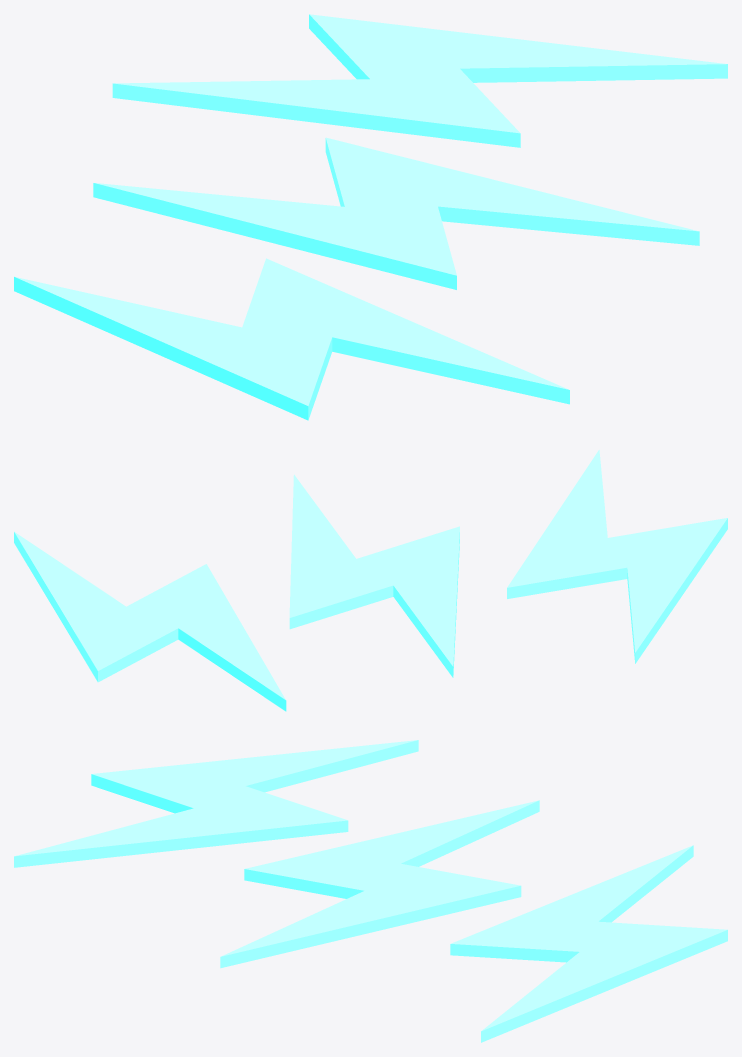
Rendered from mesh_BoostGauge_Star3.fbx.
3 renders of one model, top to bottom at view 1: azimuth 30°, elevation 25°; view 2: azimuth 150°, elevation 25°; view 3: azimuth 270°, elevation 25°, orthographic. The views are drawn at different scales.
Visible parts, largest first — view 1: mesh_FX_BoostPlateformeFeedback3F; view 2: mesh_FX_BoostPlateformeFeedback3F; view 3: mesh_FX_BoostPlateformeFeedback3F.
Part boxes in pixels (x1,y1,x2,y2): mesh_FX_BoostPlateformeFeedback3F: [14, 14, 727, 420]; mesh_FX_BoostPlateformeFeedback3F: [14, 450, 727, 711]; mesh_FX_BoostPlateformeFeedback3F: [14, 740, 727, 1042].
Size of the model in its own units: 0.9291 by 0.017 by 0.9616.
